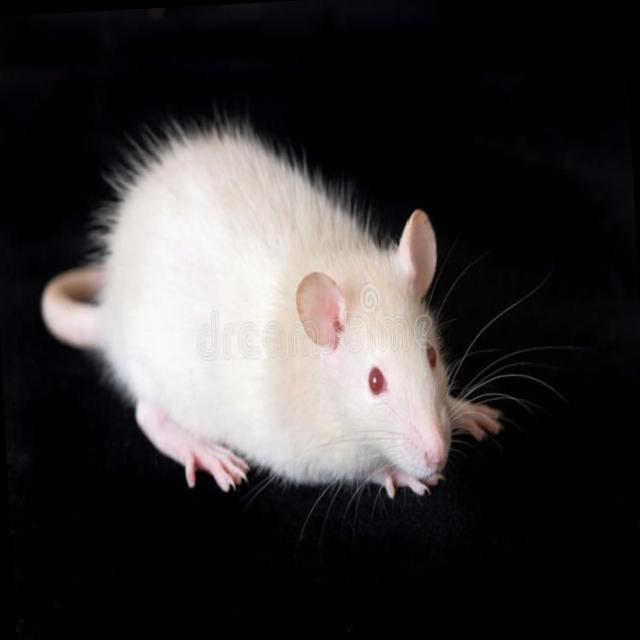rodent: (72, 90, 470, 561)
